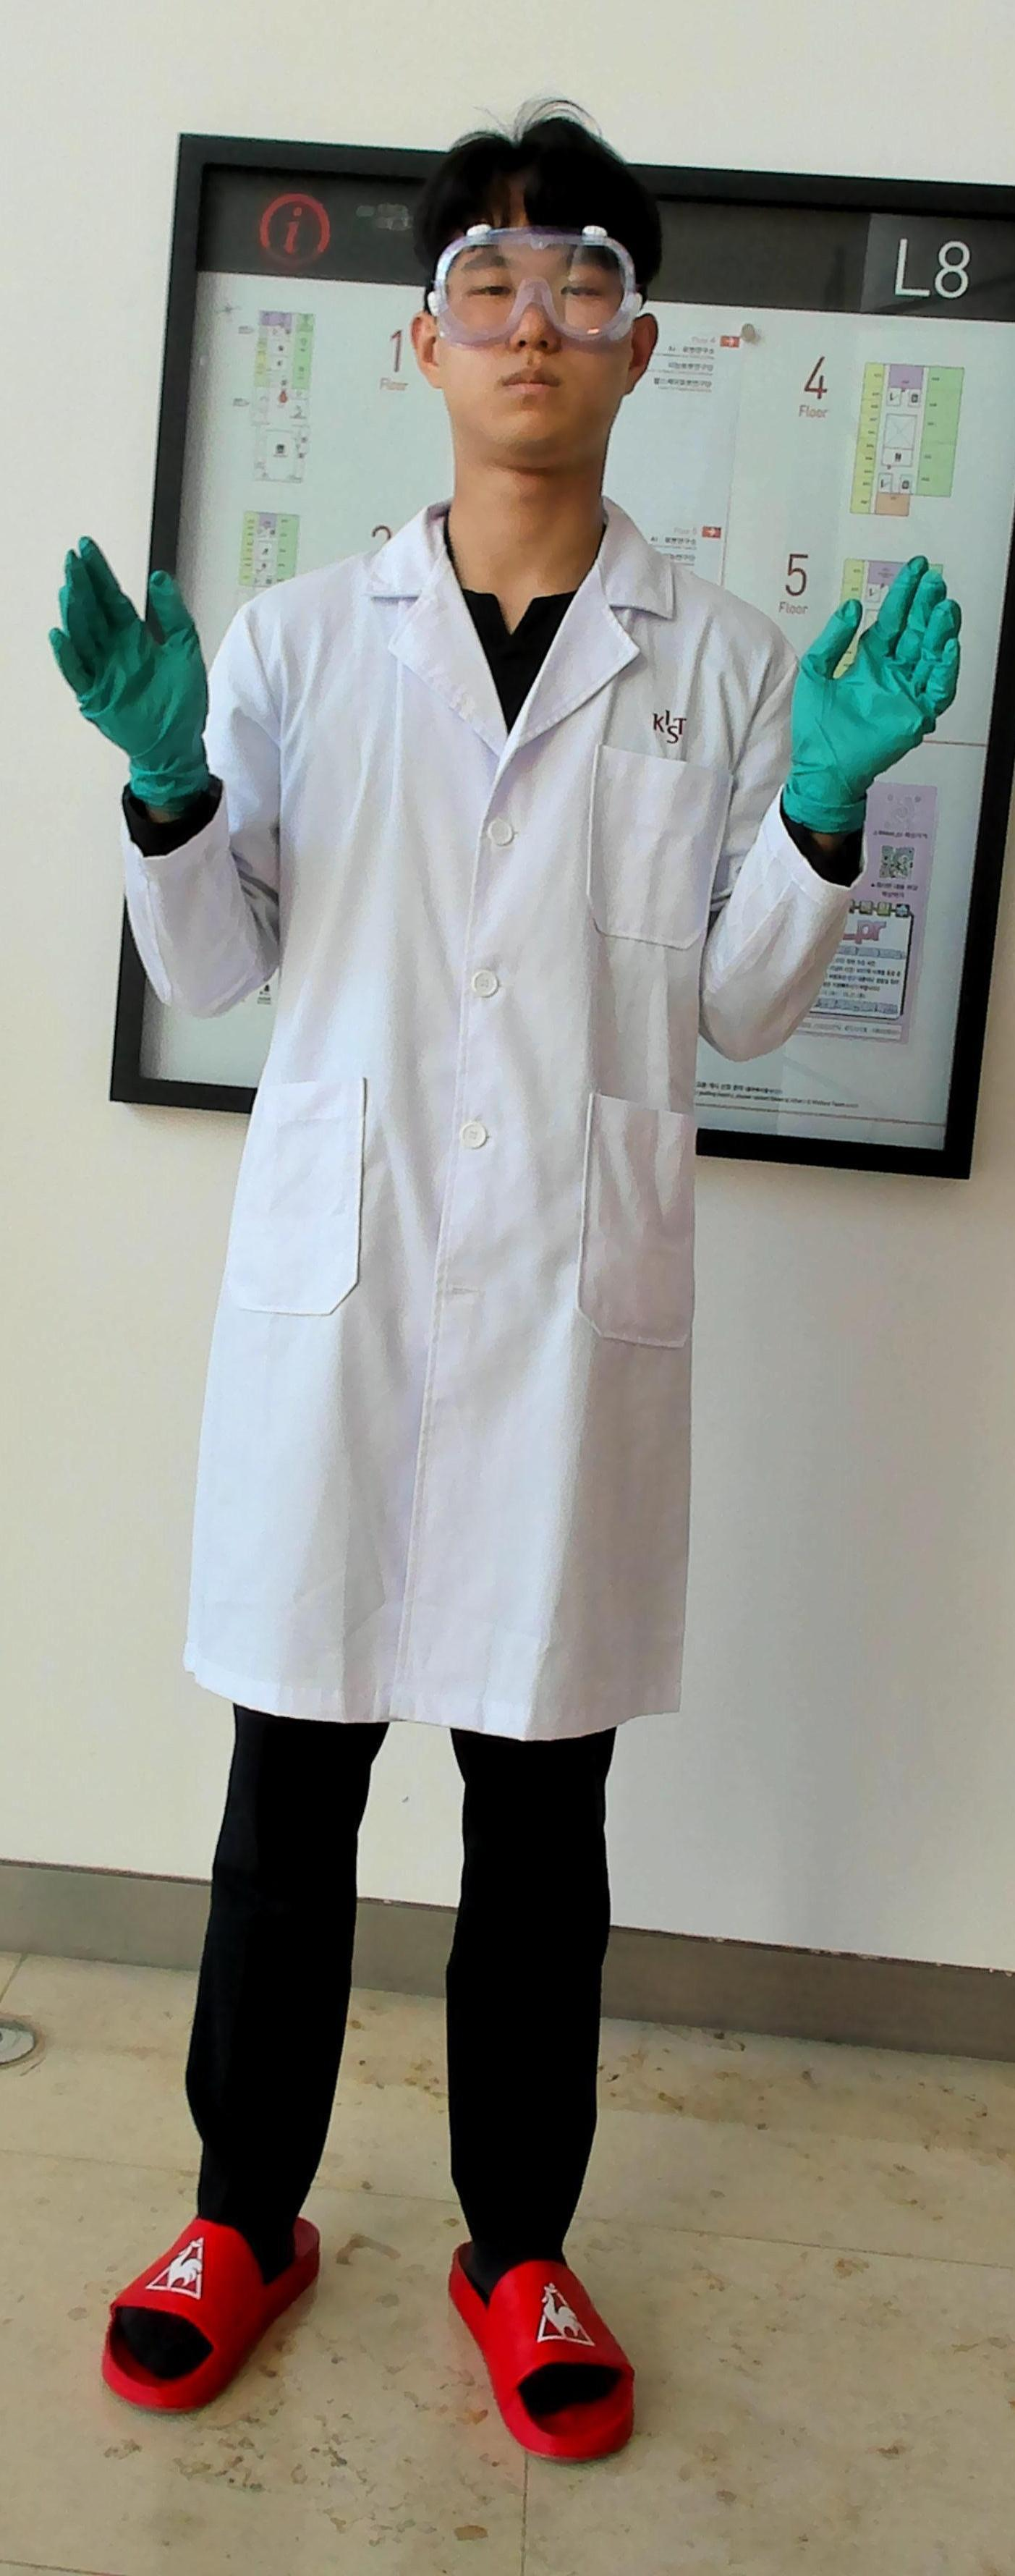lab_coat: (215, 575, 783, 1740)
